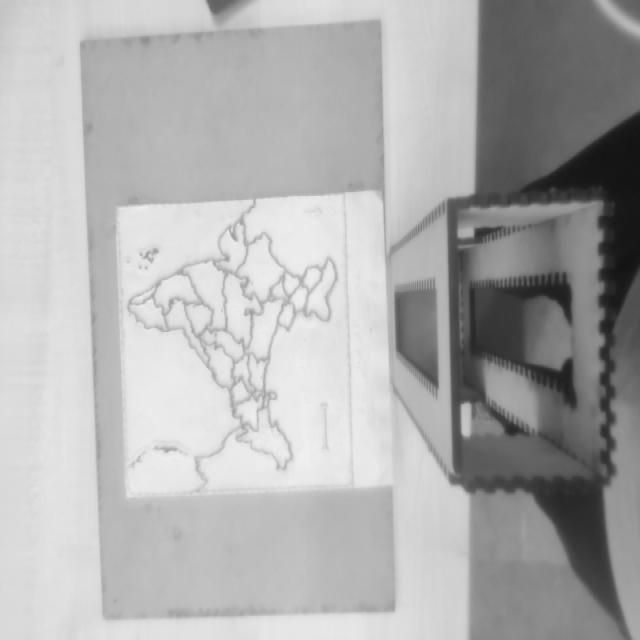map: (113, 193, 359, 498)
